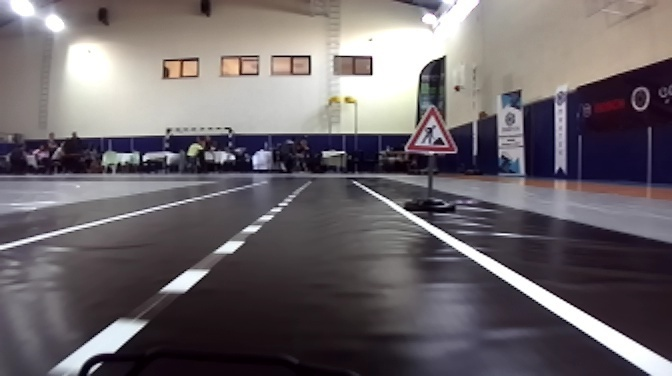yol_yapimi: (397, 102, 460, 159)
